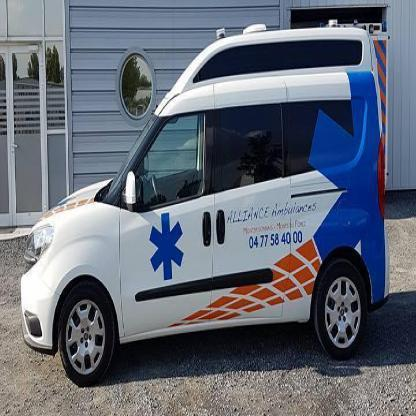Ambulance - v1 Ambulance last generate: (10, 24, 388, 390)
